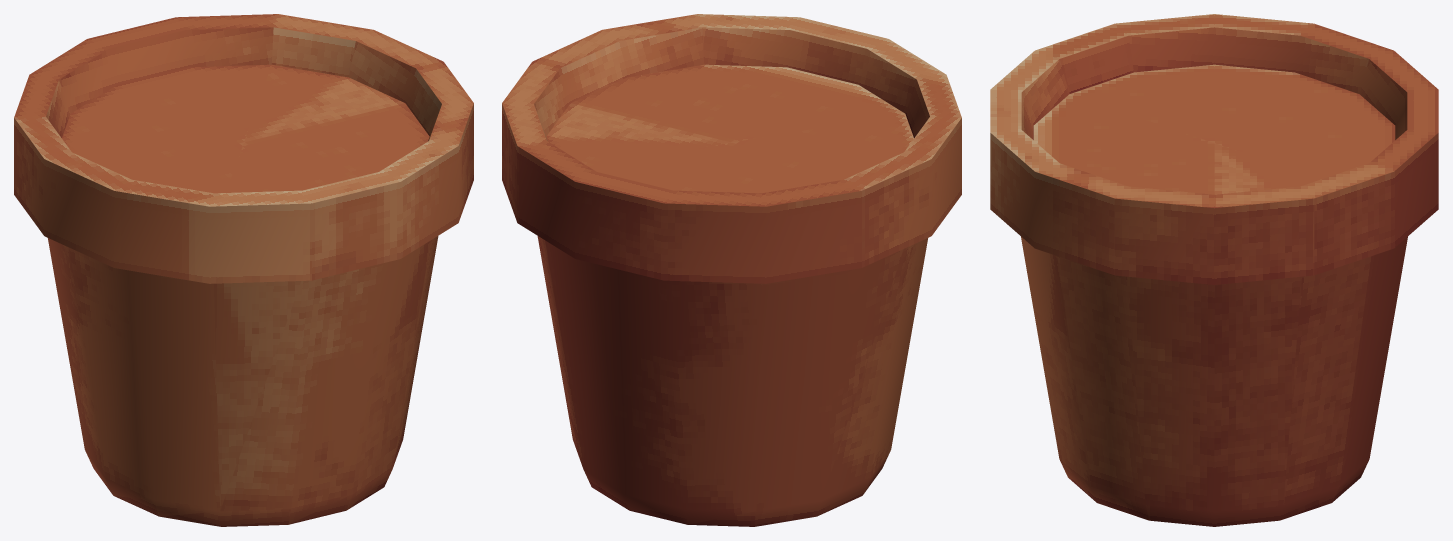
The model's file is clay_pot.glb.
3 views of the same model, side by side, from view 1: azimuth 30°, elevation 25°; view 2: azimuth 150°, elevation 25°; view 3: azimuth 270°, elevation 25° (orthographic).
Parts seen in each view (by area): view 1: mesh; view 2: mesh; view 3: mesh.
Boxes of the visible parts, bbox=[...] form: mesh: bbox=[14, 14, 473, 526]; mesh: bbox=[502, 14, 961, 526]; mesh: bbox=[990, 14, 1438, 526].
Size of the model in its own units: 0.26 by 0.22 by 0.2535.
Materials: 1 (1 with a texture image).
